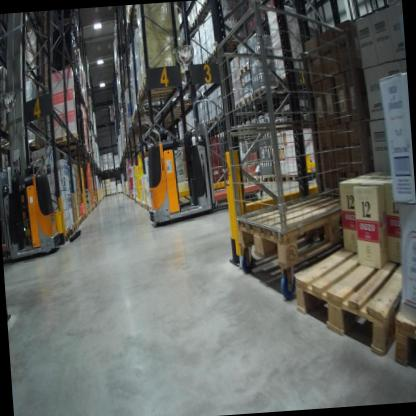pallet: (286, 228, 414, 369), (232, 198, 354, 276), (391, 304, 416, 374), (140, 74, 178, 97), (211, 32, 247, 56), (135, 84, 175, 103), (49, 130, 81, 151), (286, 168, 313, 186), (130, 110, 156, 126), (255, 86, 274, 105), (125, 6, 146, 23), (238, 59, 254, 76), (0, 121, 11, 145), (248, 172, 264, 186), (231, 98, 246, 111), (262, 172, 277, 185), (276, 171, 288, 187), (27, 138, 41, 151), (242, 93, 254, 106), (64, 227, 74, 240), (70, 224, 76, 234), (74, 219, 79, 231), (78, 216, 82, 228), (80, 215, 84, 224)
pallet_truck: (141, 106, 213, 233), (0, 150, 63, 263)
